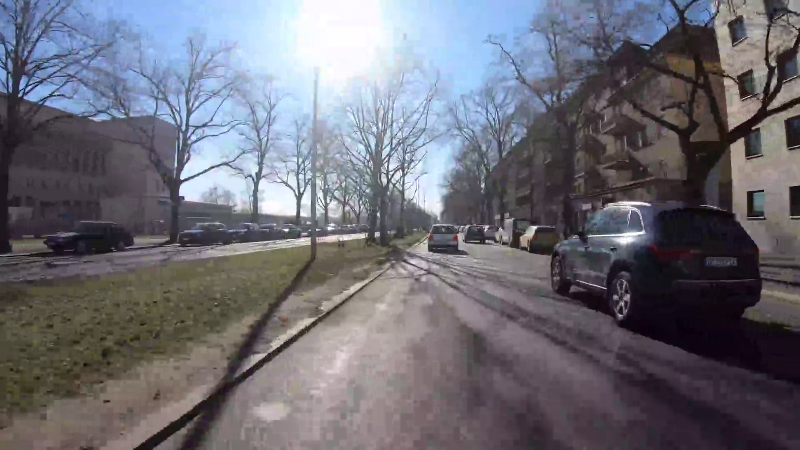Plate: (702, 255, 738, 267)
